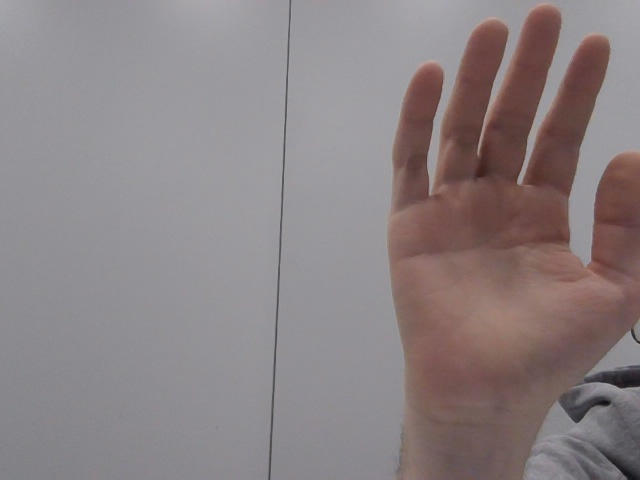nada: (379, 2, 640, 414)
